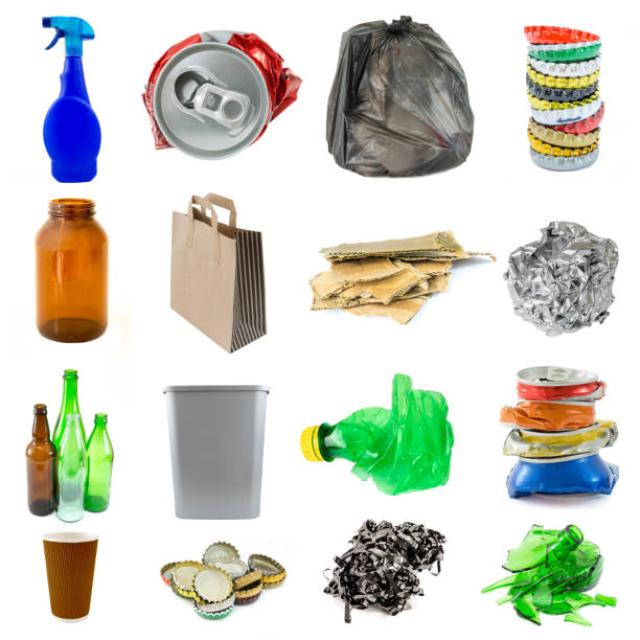cardboard: (306, 216, 492, 342), (154, 194, 275, 358)
glass: (15, 368, 130, 526), (21, 208, 129, 344), (500, 528, 611, 623)
metal: (142, 20, 308, 154), (516, 367, 628, 518), (521, 20, 605, 185), (159, 536, 284, 624)
plastic: (301, 390, 481, 495), (20, 16, 125, 189), (161, 381, 282, 523)
trash: (322, 28, 483, 180)
